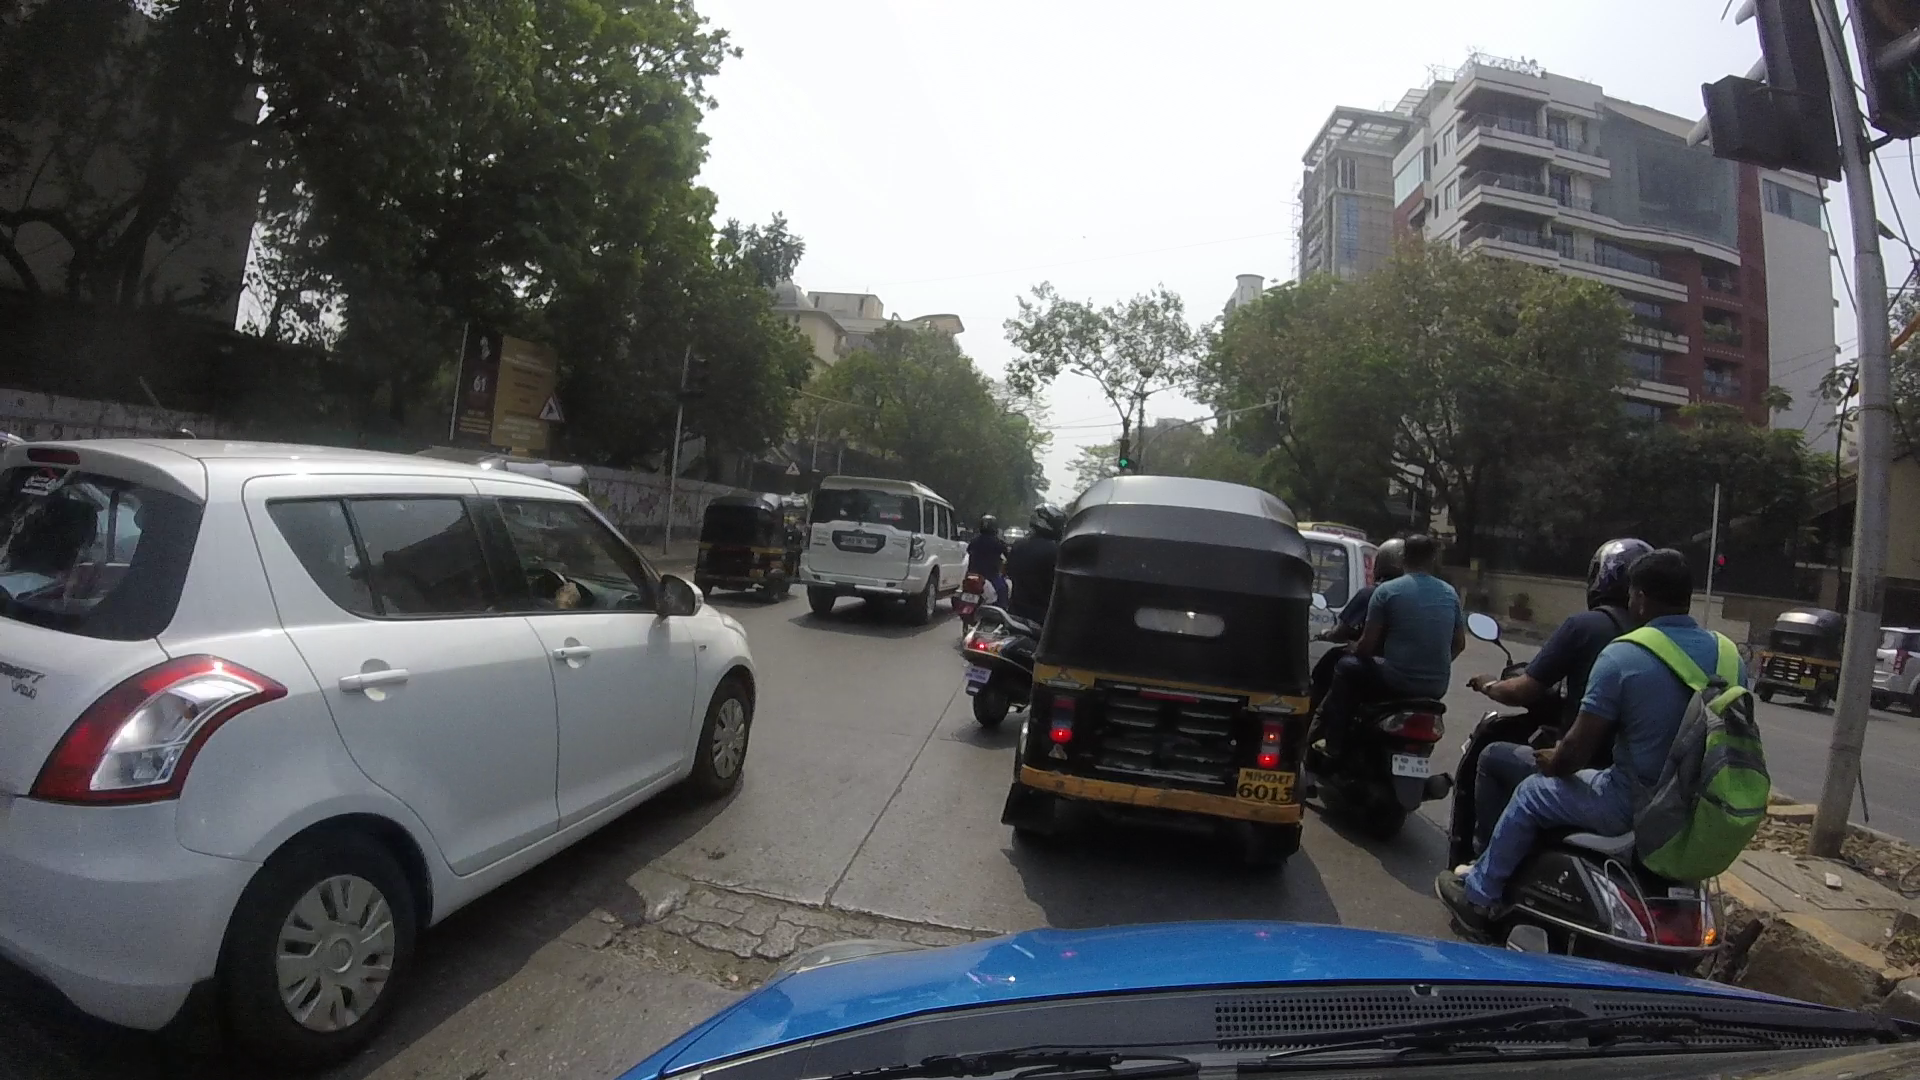bike/scooter: (1455, 542, 1749, 960), (1316, 530, 1431, 836)
car: (37, 439, 771, 1033), (802, 477, 963, 624)
rickshaw: (1007, 462, 1319, 876), (708, 480, 802, 592), (1755, 607, 1846, 716)
